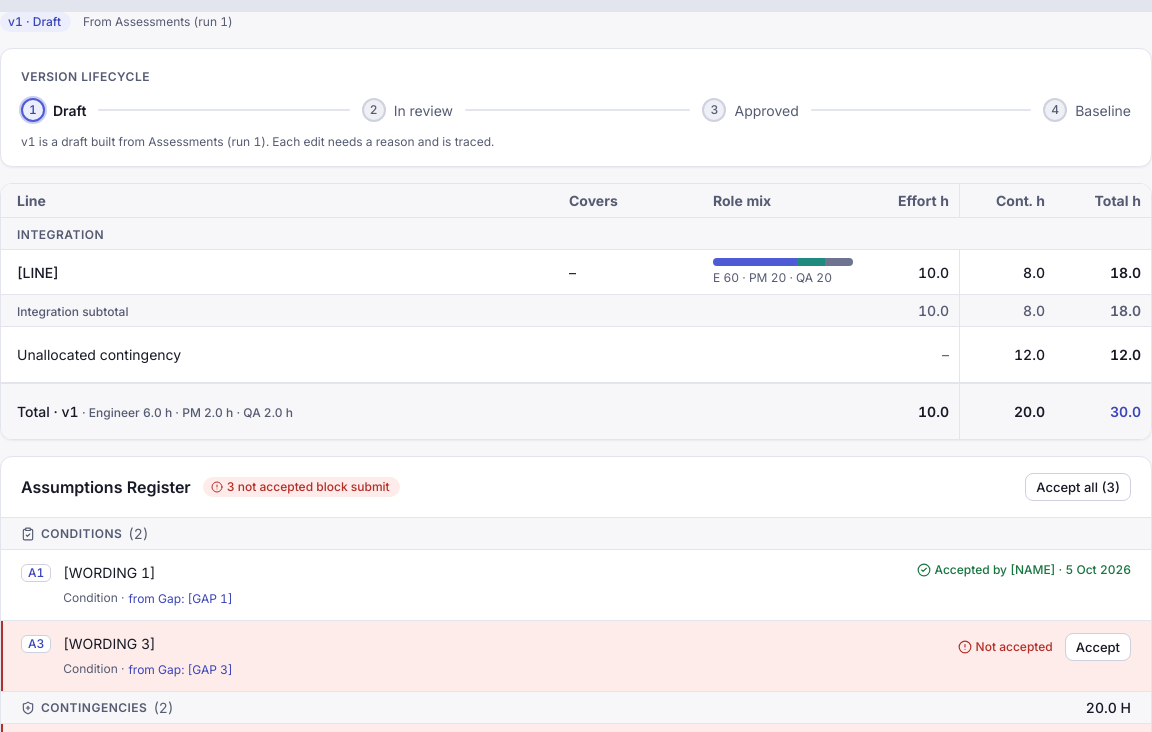
Scenario: the Assumptions Register › says when the Gap is no longer open
Click the button with aria-label "Accept: [WORDING 3]".
click(1098, 647)  # box [1065,633,1131,661]
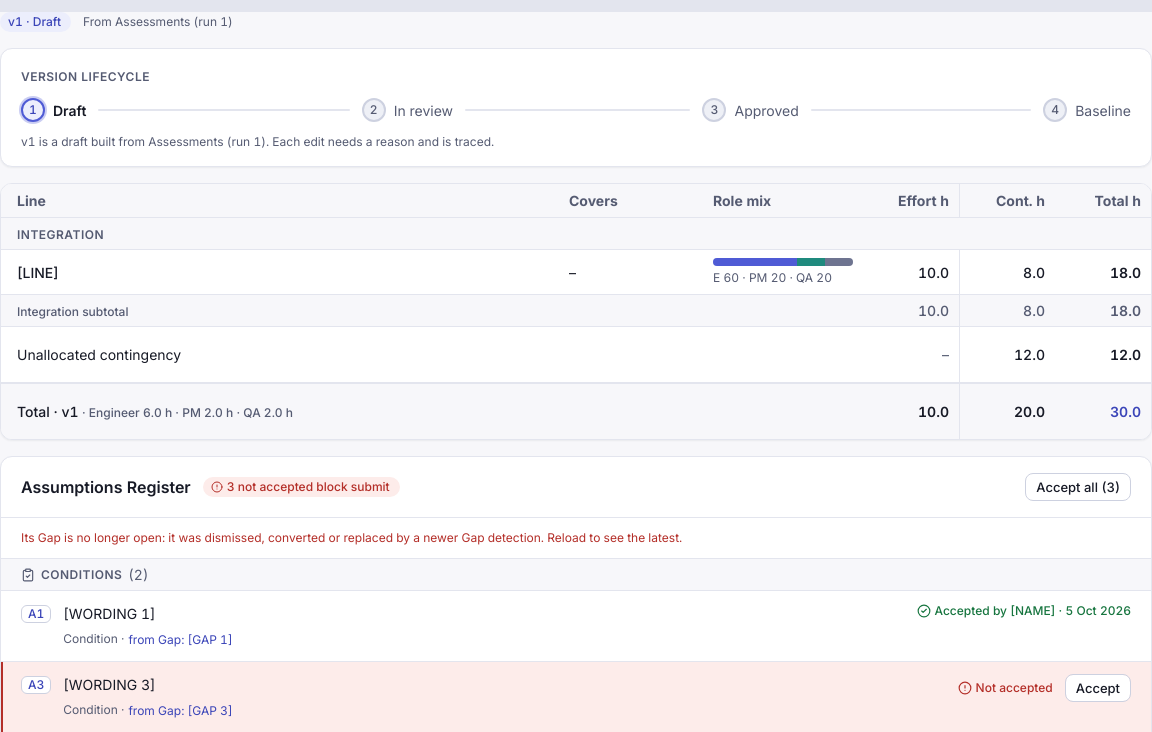
expect the text "Its Gap is no longer open" is shown: met, box [21,530,682,545]
